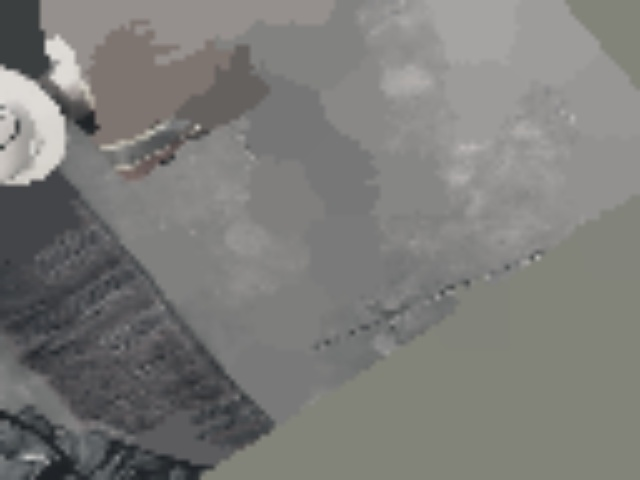three: (0, 94, 28, 160)
